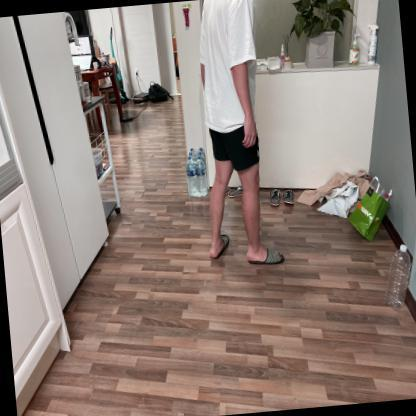no_safety-shoe: (240, 237, 293, 274), (203, 227, 235, 268)
